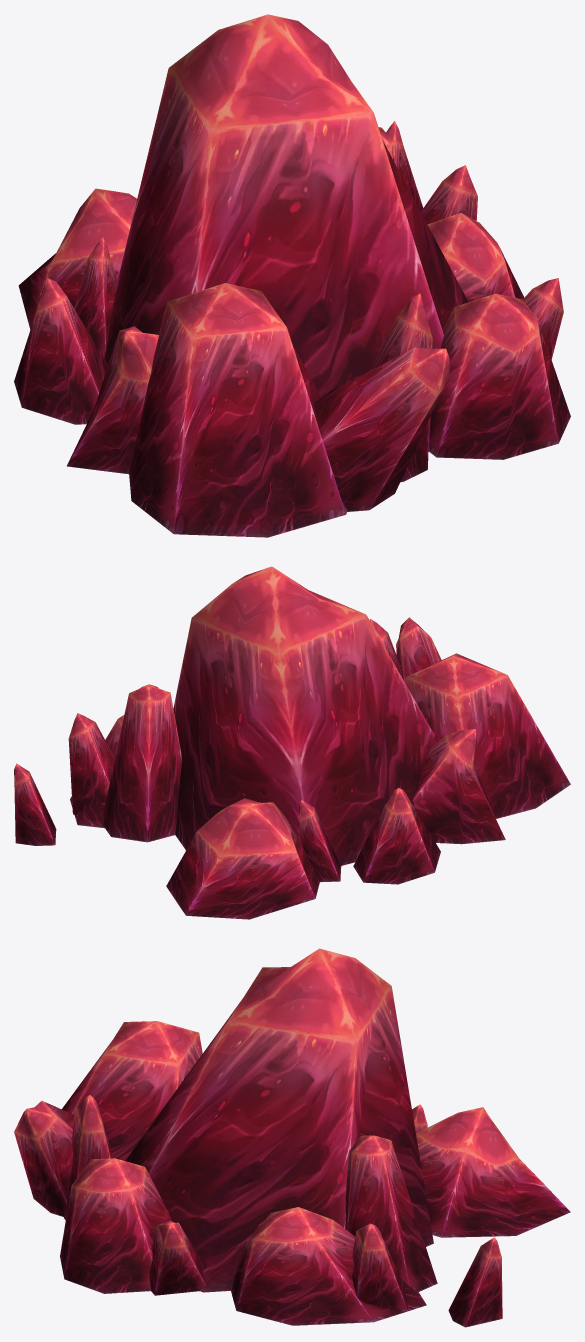
The model's file is sholazar_geode_crys_1.obj.
The picture shows the model from 3 angles, top to bottom: view 1: azimuth 30°, elevation 25°; view 2: azimuth 150°, elevation 25°; view 3: azimuth 270°, elevation 25°; orthographic projection. The views are drawn at different scales.
Visible parts, largest first — view 1: sholazar_geode_crys_1; view 2: sholazar_geode_crys_1; view 3: sholazar_geode_crys_1.
Part boxes in pixels (x1,y1,x2,y2): sholazar_geode_crys_1: [14, 14, 570, 537]; sholazar_geode_crys_1: [14, 566, 570, 919]; sholazar_geode_crys_1: [14, 948, 570, 1327].
Size of the model in its own units: 16.96 by 11 by 19.82.
1 material, 1 textured.
